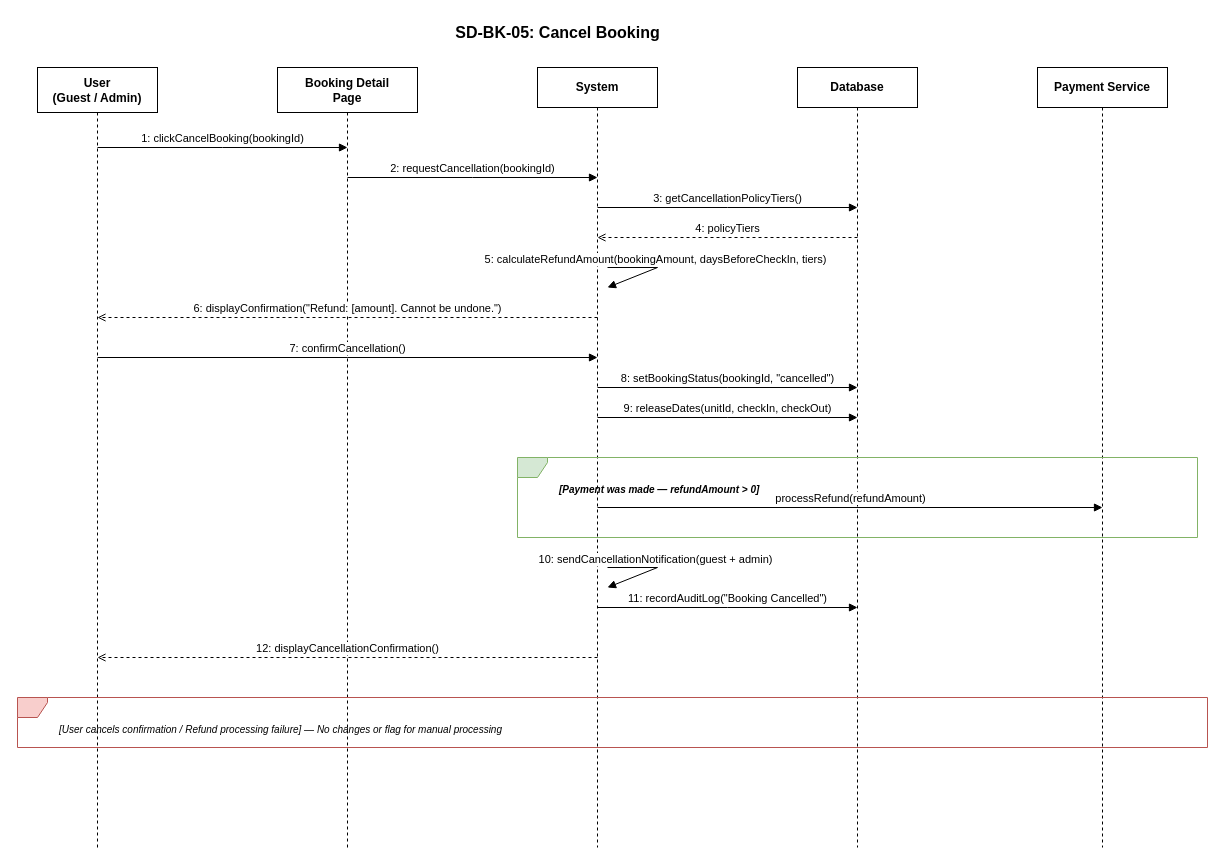
This 1225x865 diagram has some shape labels left out. Each missing label, with the box of its shape:
alt: (16, 696, 1208, 748)
opt: (516, 456, 1198, 538)
